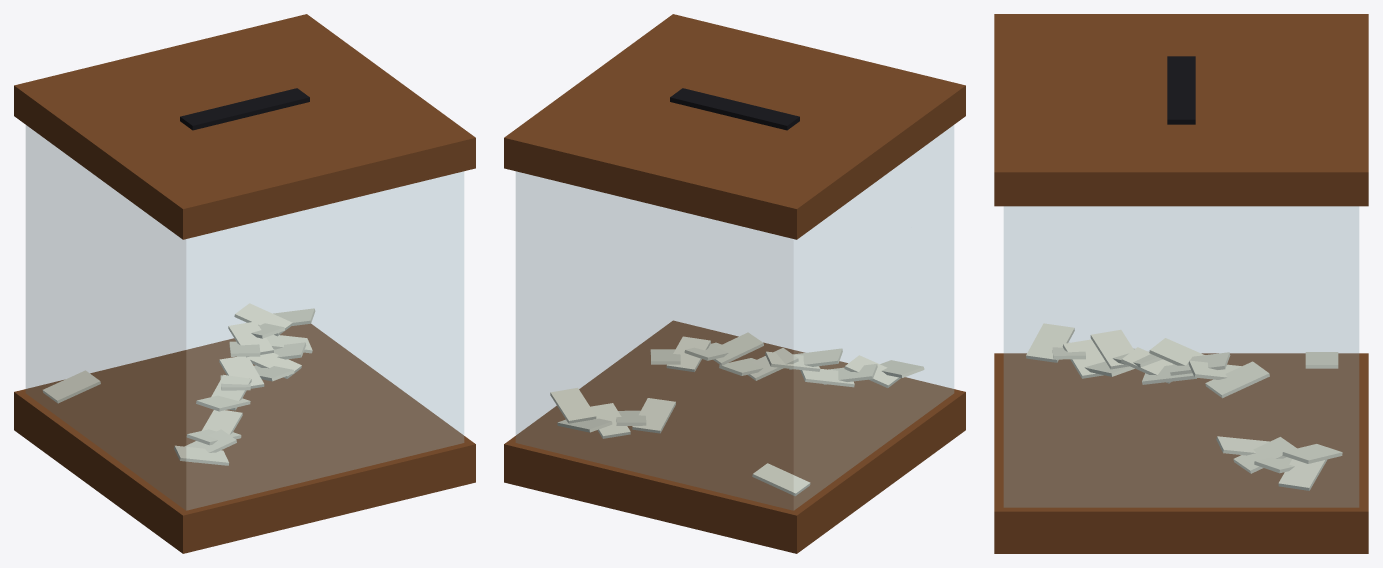
The model's file is raffle_urn.glb.
3 renders of one model, left to right at view 1: azimuth 30°, elevation 25°; view 2: azimuth 150°, elevation 25°; view 3: azimuth 270°, elevation 25°, orthographic. The views are drawn at different scales.
Visible parts, largest first — view 1: glass_urn_glass, lid_urn_wood, base_urn_wood, slips_slip_paper, slot_black; view 2: glass_urn_glass, lid_urn_wood, base_urn_wood, slips_slip_paper, slot_black; view 3: glass_urn_glass, lid_urn_wood, base_urn_wood, slips_slip_paper, slot_black.
Boxes of the visible parts, x1,y1,x2,y2 form: glass_urn_glass: [26, 125, 463, 510]; lid_urn_wood: [14, 14, 475, 239]; base_urn_wood: [14, 324, 475, 553]; slips_slip_paper: [42, 303, 315, 465]; slot_black: [180, 88, 309, 130]; glass_urn_glass: [516, 125, 953, 510]; lid_urn_wood: [504, 14, 965, 239]; base_urn_wood: [504, 320, 965, 553]; slips_slip_paper: [550, 332, 924, 495]; slot_black: [670, 88, 799, 130]; glass_urn_glass: [1004, 206, 1358, 507]; lid_urn_wood: [994, 14, 1368, 206]; base_urn_wood: [994, 353, 1368, 553]; slips_slip_paper: [1026, 323, 1342, 490]; slot_black: [1167, 56, 1195, 124].
Size of the model in its own units: 0.4 by 0.456 by 0.4.
